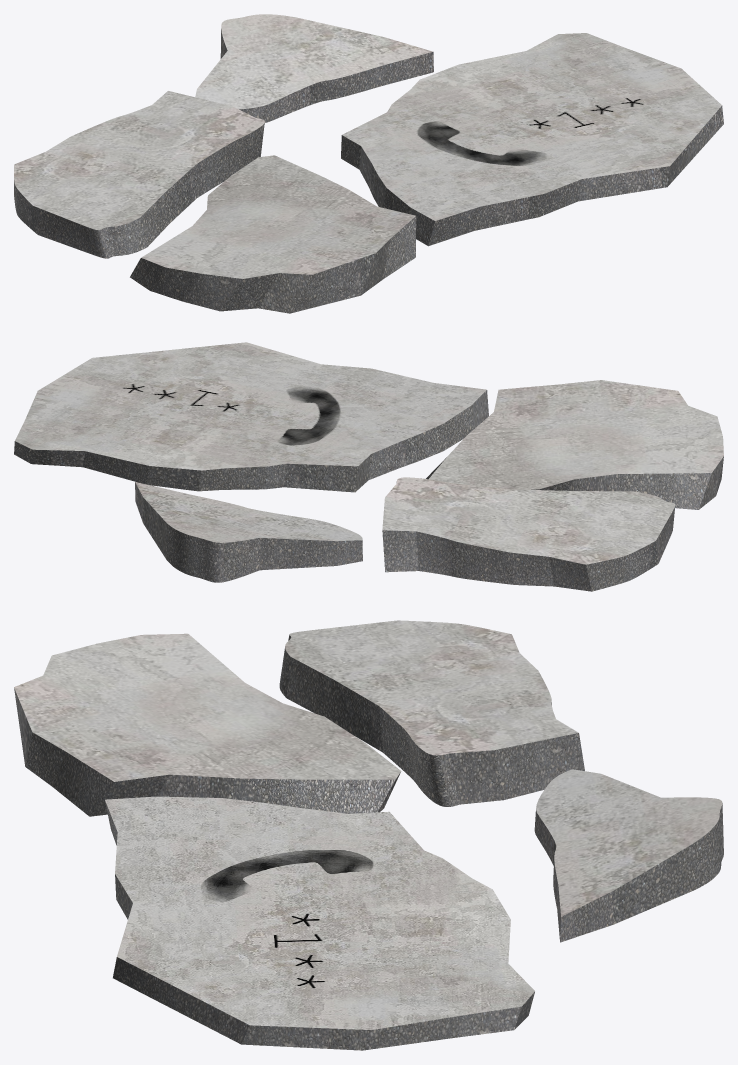
Rendered from BrokenTiles.FBX.
The picture shows the model from 3 angles, top to bottom: view 1: azimuth 30°, elevation 25°; view 2: azimuth 150°, elevation 25°; view 3: azimuth 270°, elevation 25°; orthographic projection. The views are drawn at different scales.
Parts seen in each view (by area): view 1: BrokenTiles; view 2: BrokenTiles; view 3: BrokenTiles.
Boxes of the visible parts, bbox=[...] form: BrokenTiles: bbox=[14, 14, 723, 313]; BrokenTiles: bbox=[14, 342, 723, 591]; BrokenTiles: bbox=[14, 620, 723, 1050].
Bounding box in the file's own units: 35.12 × 26.6 × 2.14.
Materials: 3 (3 with a texture image).
